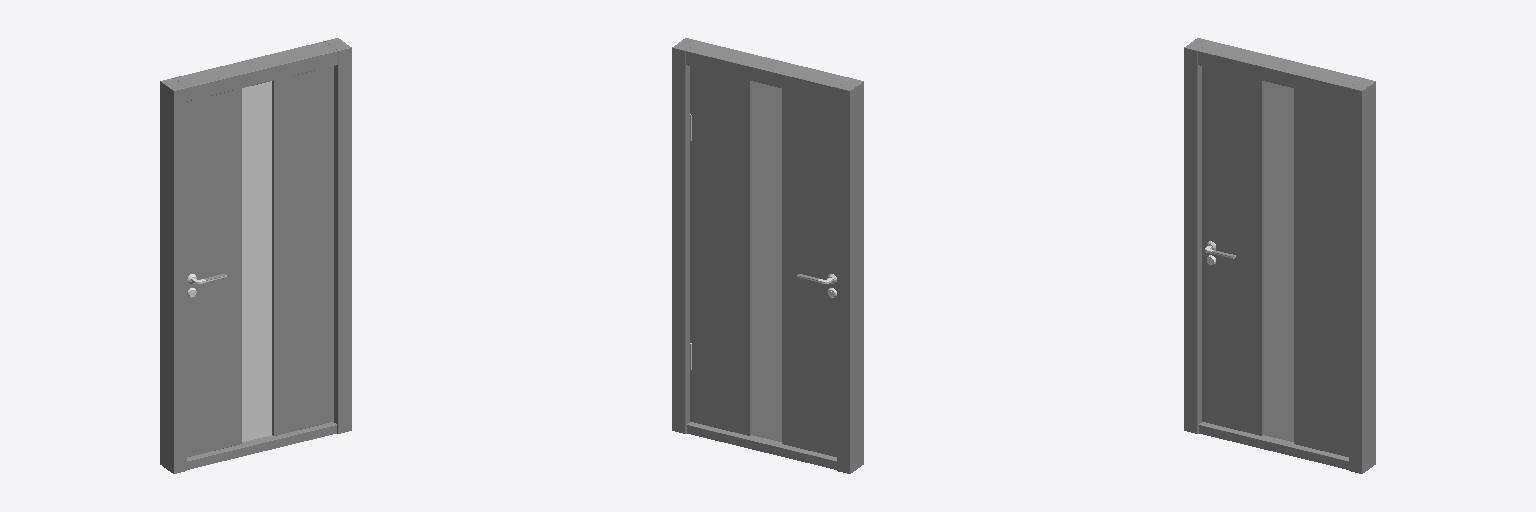
3 views of the same model, side by side, from view 1: azimuth 30°, elevation 25°; view 2: azimuth 150°, elevation 25°; view 3: azimuth 330°, elevation 25° (orthographic).
Bounding box in the file's own units: 1.06 × 2.18 × 0.1797.
Materials: 3 (1 with a texture image).